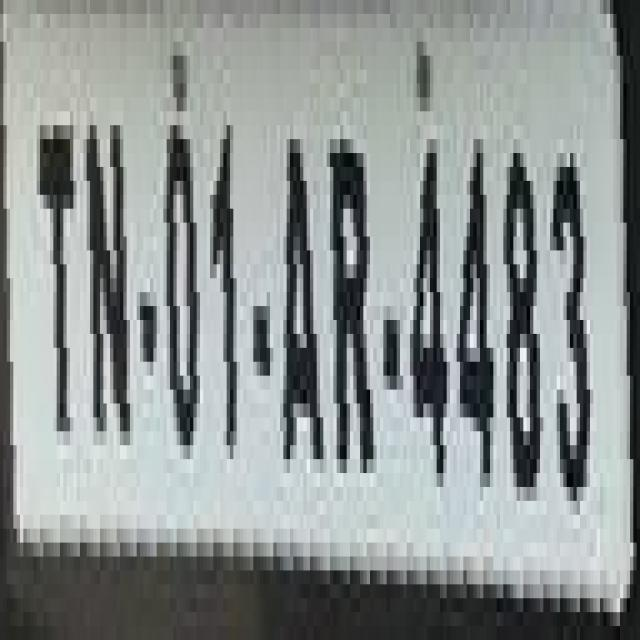license_plate: (23, 0, 640, 612)
